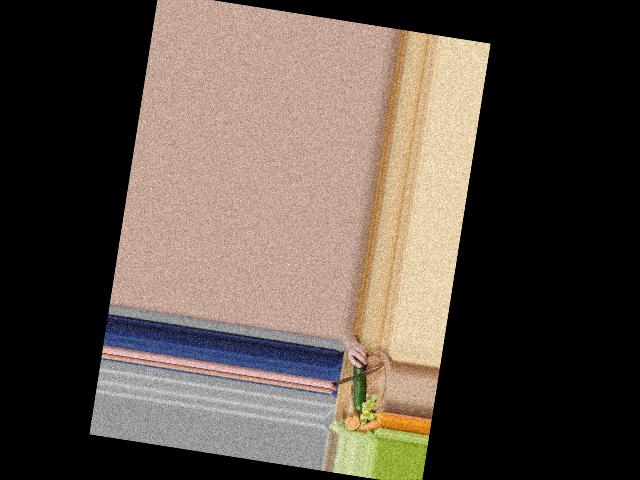cucumber: (346, 357, 371, 412)
